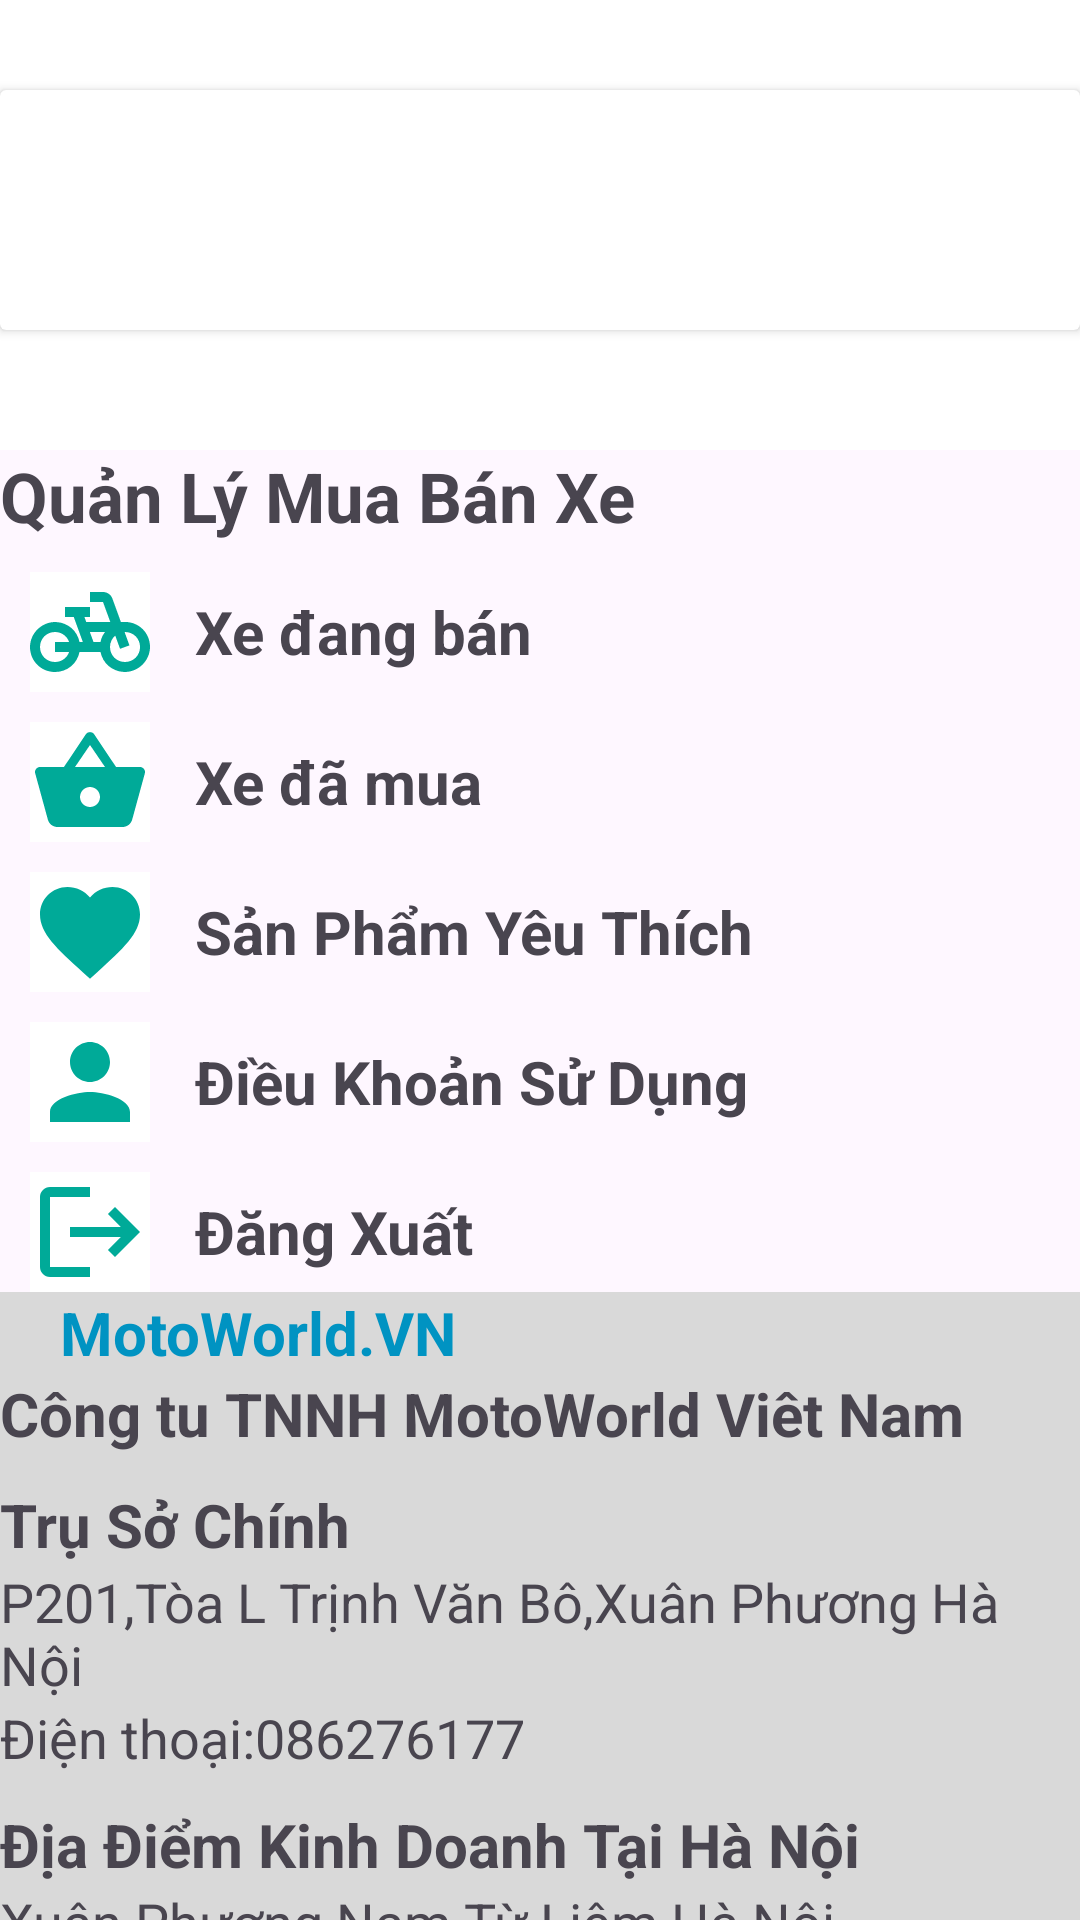

Icon bounding boxes for this 1080px×1920px phone screenshot, format (x1, y1, x2, y2):
favoritecc: (40, 887, 140, 979)
pedal bike: (30, 592, 150, 672)
personcc: (50, 1042, 130, 1122)
shopping basket: (35, 732, 145, 827)
